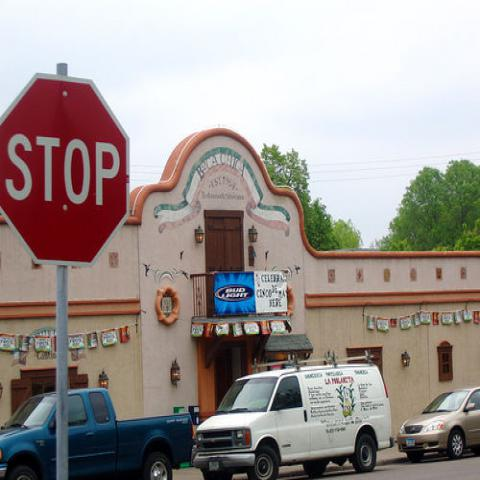car: (397, 387, 479, 462)
truck: (0, 386, 195, 480)
